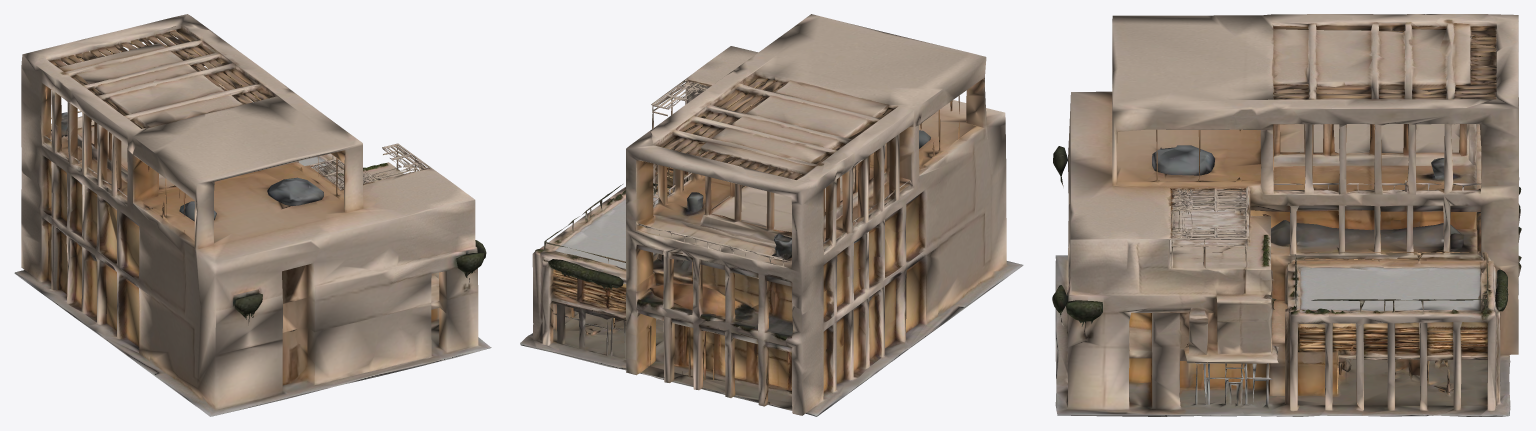
The model's file is shopblk1_lod1.glb.
The picture shows the model from 3 angles, left to right: view 1: azimuth 30°, elevation 25°; view 2: azimuth 150°, elevation 25°; view 3: azimuth 270°, elevation 25°; orthographic projection. The views are drawn at different scales.
Visible parts, largest first — view 1: tripo_node_f659cf5f-adca-4809-aeab-73c3730deb1c; view 2: tripo_node_f659cf5f-adca-4809-aeab-73c3730deb1c; view 3: tripo_node_f659cf5f-adca-4809-aeab-73c3730deb1c.
Part boxes in pixels (x1,y1,x2,y2): tripo_node_f659cf5f-adca-4809-aeab-73c3730deb1c: [14, 14, 491, 416]; tripo_node_f659cf5f-adca-4809-aeab-73c3730deb1c: [520, 14, 1023, 416]; tripo_node_f659cf5f-adca-4809-aeab-73c3730deb1c: [1052, 14, 1521, 416].
Bounding box in the file's own units: 17.09 × 12 × 20.47.
Materials: 1 (1 with a texture image).
